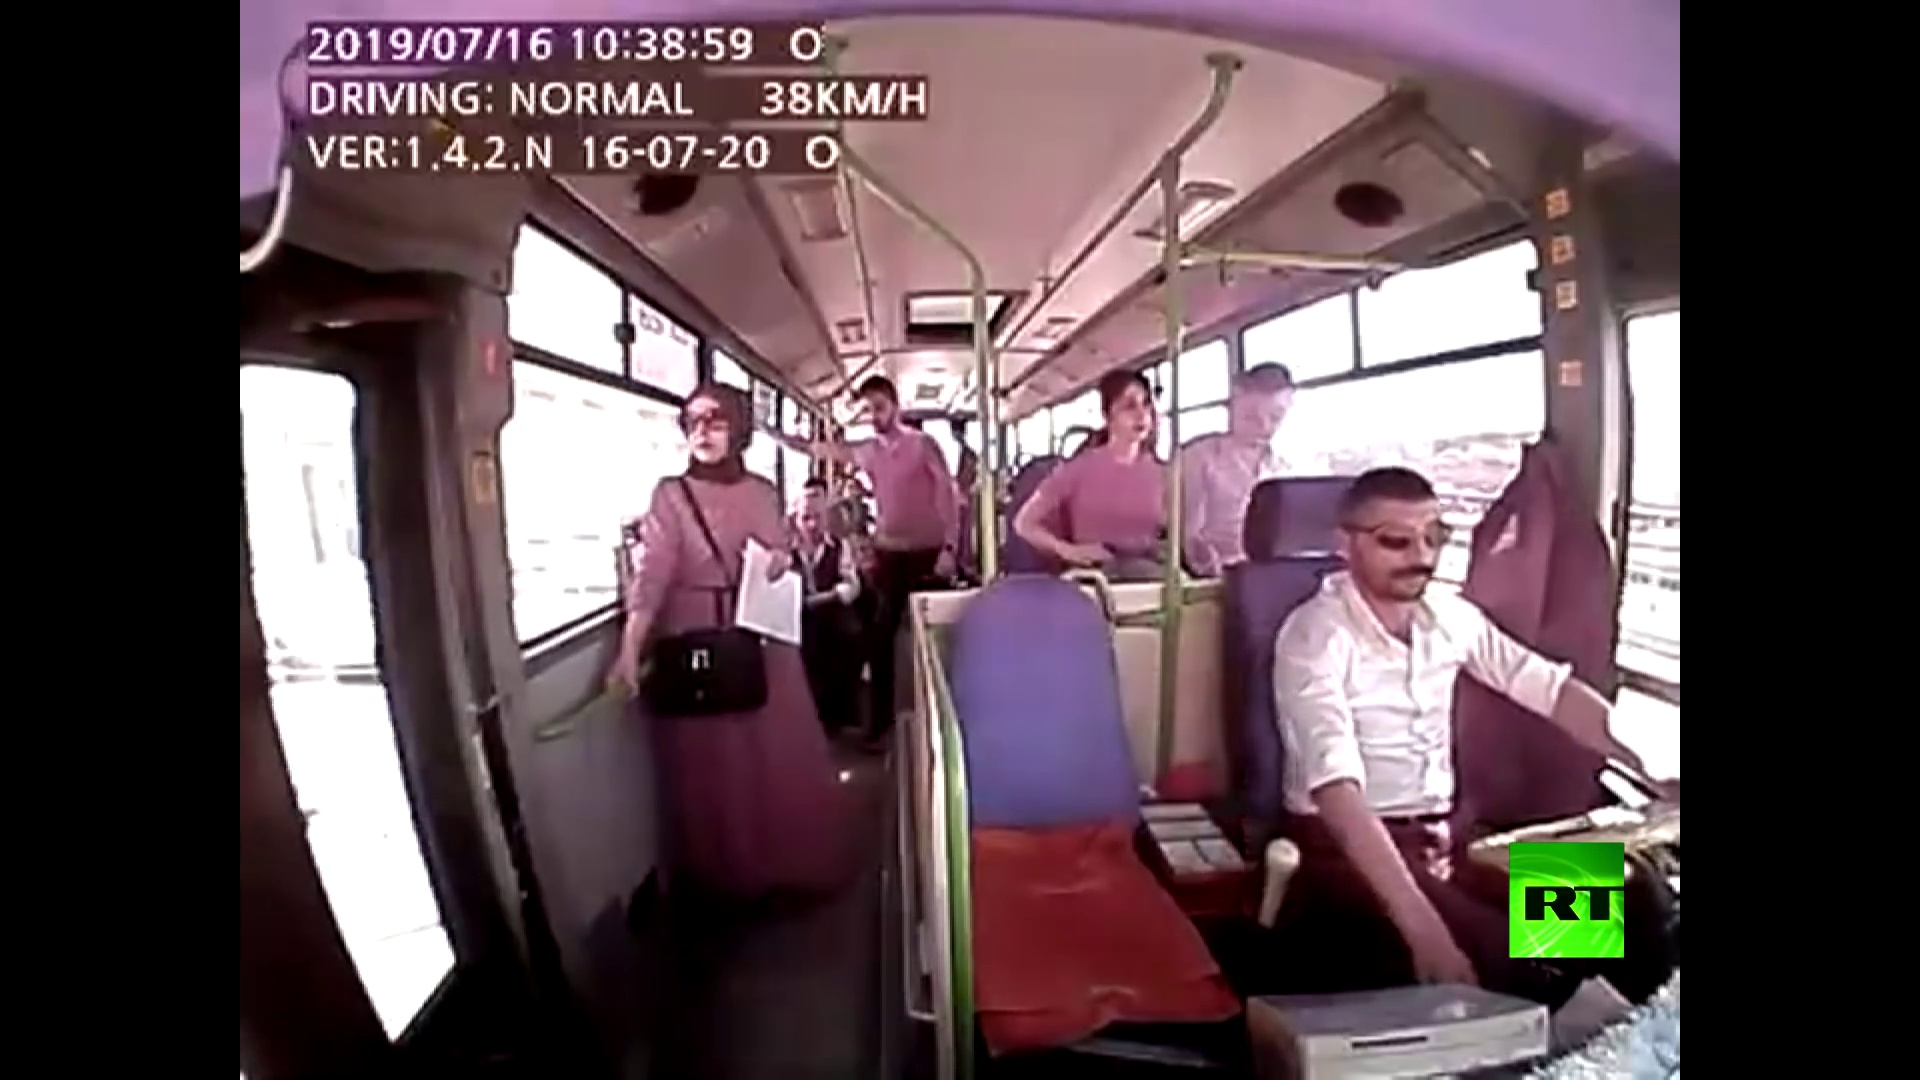face: (1367, 497, 1442, 597), (1102, 383, 1163, 447), (683, 391, 735, 465), (1241, 383, 1286, 453), (860, 392, 900, 436), (791, 501, 827, 540)
